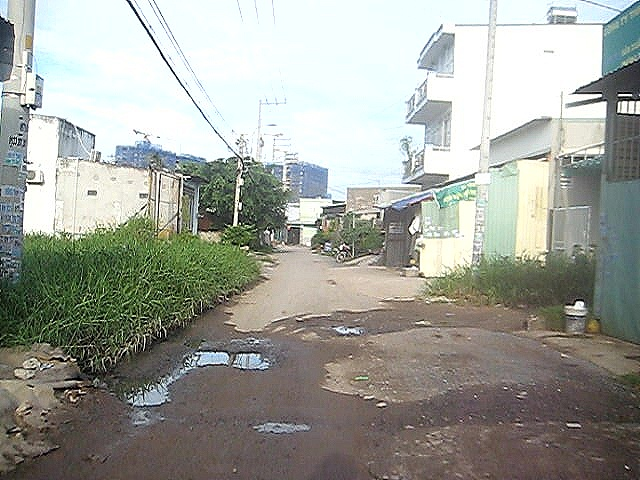hole: (269, 311, 390, 340), (109, 367, 192, 406), (179, 346, 275, 371), (248, 420, 313, 434)
